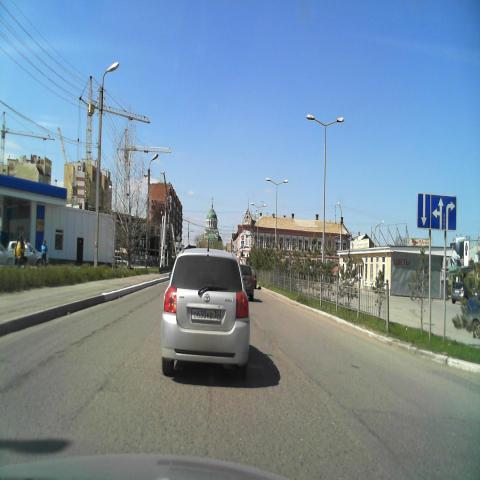5_15_7: (417, 193, 457, 231)
